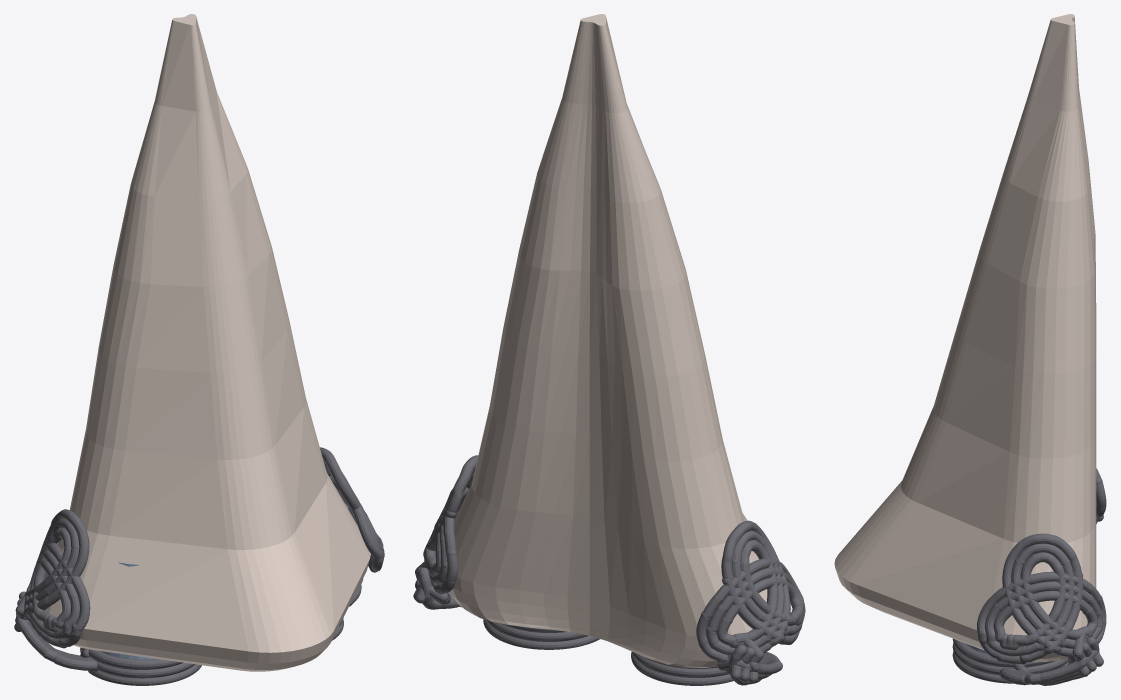
3 renders of one model, left to right at view 1: azimuth 30°, elevation 25°; view 2: azimuth 150°, elevation 25°; view 3: azimuth 270°, elevation 25°, orthographic. The views are drawn at different scales.
Visible parts, largest first — view 1: body, frame_mizuhiki_left, frame_mizuhiki_right; view 2: body, frame_mizuhiki_left, frame_mizuhiki_right; view 3: body, frame_mizuhiki_right, frame_mizuhiki_left.
Part boxes in pixels (<box>): body: <box>44,14,370,671</box>; frame_mizuhiki_left: <box>14,509,201,685</box>; frame_mizuhiki_right: <box>320,447,384,640</box>; body: <box>449,14,791,667</box>; frame_mizuhiki_left: <box>631,520,805,685</box>; frame_mizuhiki_right: <box>413,455,599,649</box>; body: <box>834,14,1096,662</box>; frame_mizuhiki_right: <box>952,533,1106,685</box>; frame_mizuhiki_left: <box>1096,468,1106,523</box>.
Bounding box in the file's own units: 34 × 57.96 × 23.64.
